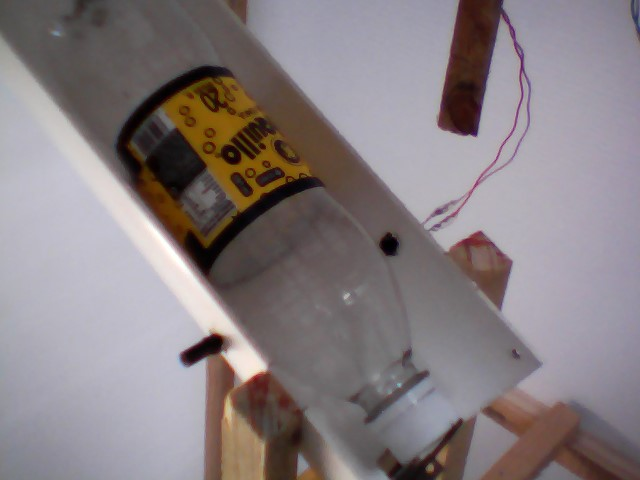plastico: (26, 1, 463, 466)
